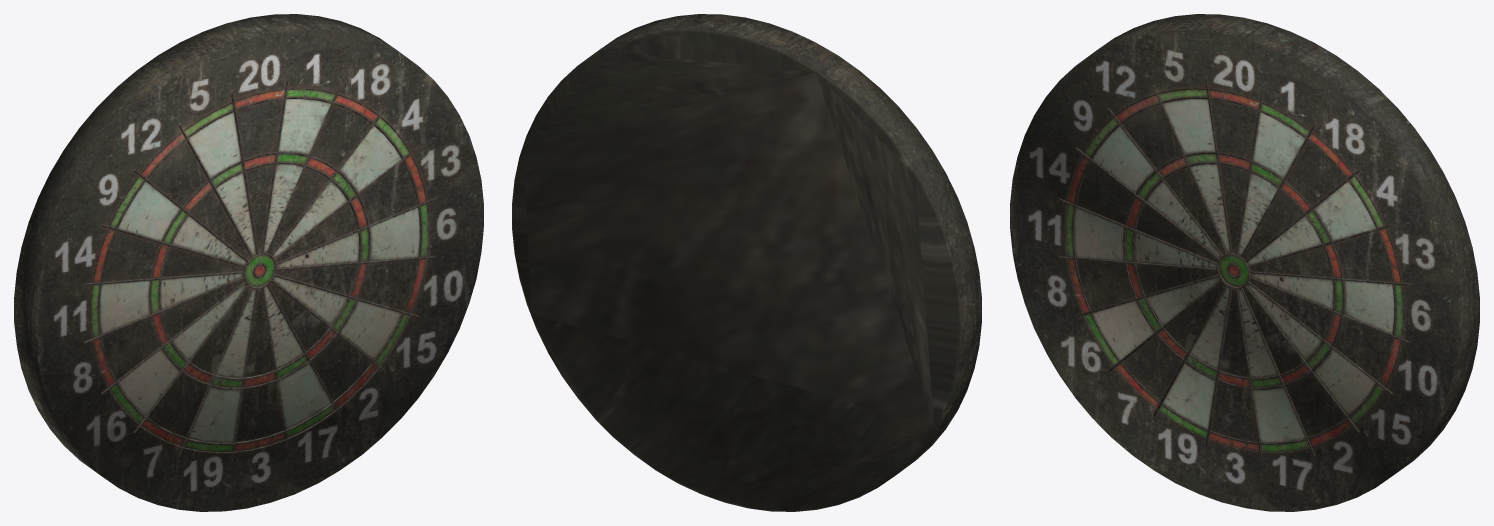
Rendered from Dartboard.fbx.
3 renders of one model, left to right at view 1: azimuth 30°, elevation 25°; view 2: azimuth 150°, elevation 25°; view 3: azimuth 330°, elevation 25°, orthographic.
Parts seen in each view (by area): view 1: Dartboard; view 2: Dartboard; view 3: Dartboard.
Boxes of the visible parts, x1=… form: Dartboard: x1=14, y1=14, x2=483, y2=511; Dartboard: x1=512, y1=14, x2=981, y2=511; Dartboard: x1=1010, y1=14, x2=1479, y2=511.
Bounding box in the file's own units: 0.4505 × 0.4505 × 0.0399.
1 material, 1 textured.
